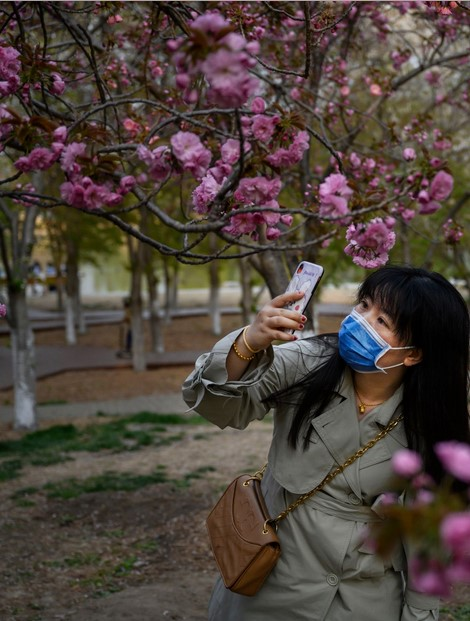face_with_mask: (338, 269, 444, 373)
